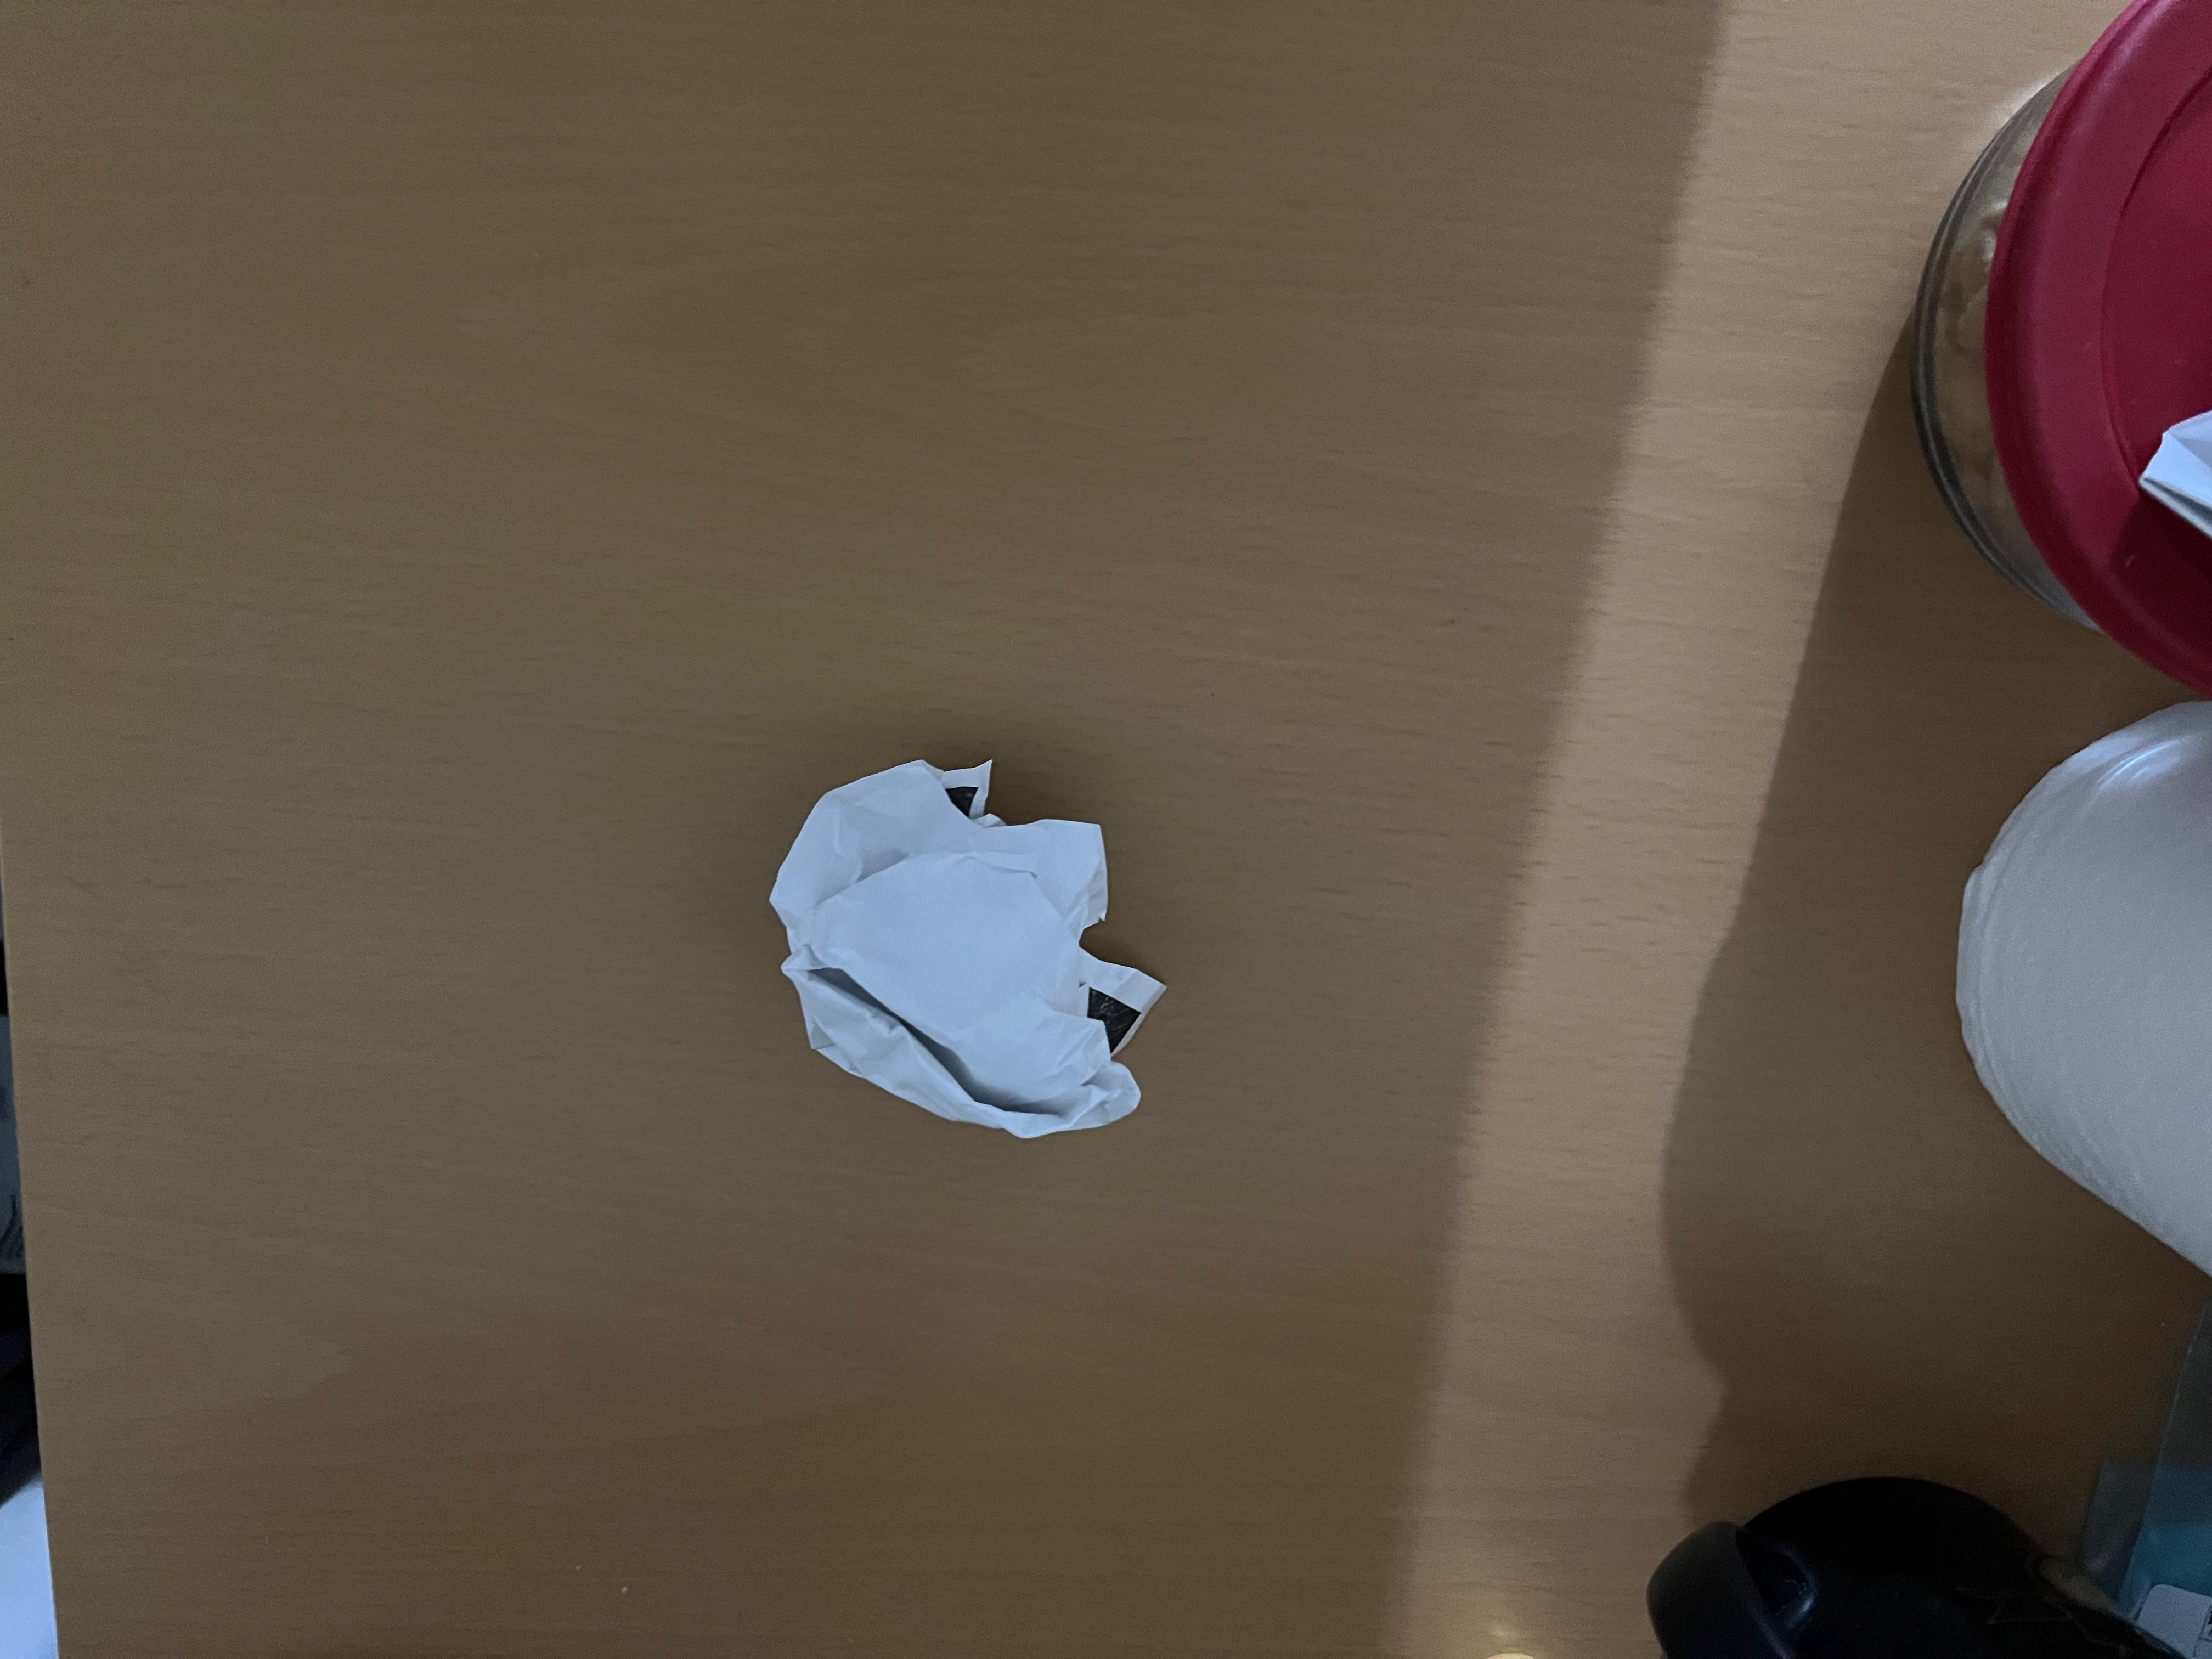trash paper: (737, 732, 1200, 1192)
